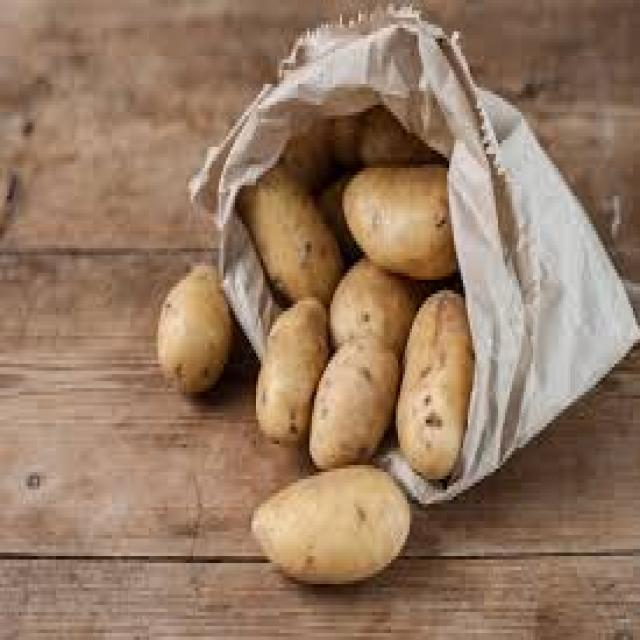Potato: (234, 466, 430, 610), (234, 156, 340, 316), (332, 146, 460, 278), (399, 292, 482, 485), (306, 326, 407, 475), (152, 238, 237, 408), (253, 281, 329, 458), (326, 245, 414, 352)
